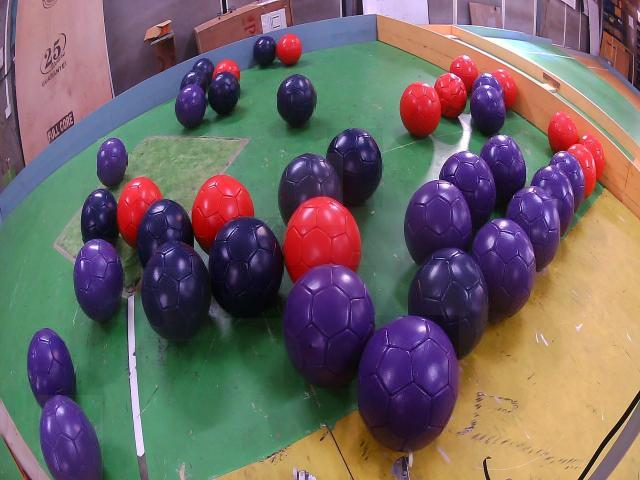jambhalya: (359, 315, 459, 452), (284, 265, 376, 388), (471, 219, 537, 318), (404, 180, 472, 265), (40, 395, 103, 480), (506, 186, 561, 270), (278, 154, 343, 225), (440, 150, 497, 229), (74, 238, 124, 322), (27, 328, 75, 407), (481, 135, 527, 206), (531, 167, 575, 233), (550, 151, 585, 210), (470, 85, 505, 135), (97, 138, 127, 187), (176, 84, 207, 128), (473, 74, 504, 99)
kaalyya: (409, 249, 489, 358), (208, 217, 283, 318), (142, 241, 211, 341), (327, 128, 383, 207), (136, 200, 194, 267), (81, 188, 119, 245), (277, 75, 315, 126), (209, 72, 239, 114), (253, 36, 277, 67), (193, 58, 215, 86), (181, 70, 207, 93)
